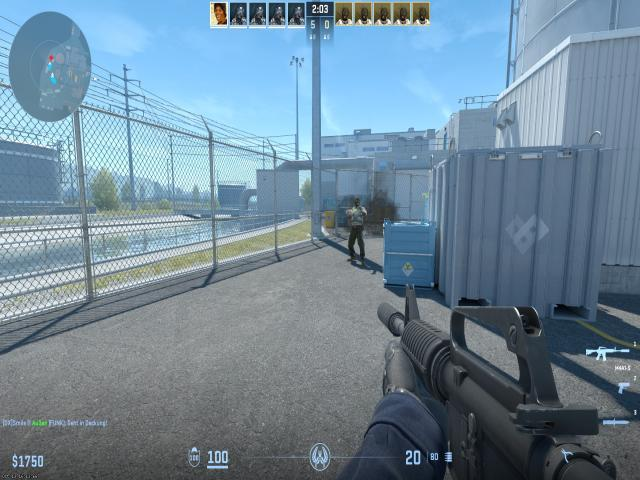T: (349, 195, 365, 261)
T-Head: (353, 196, 362, 210)
